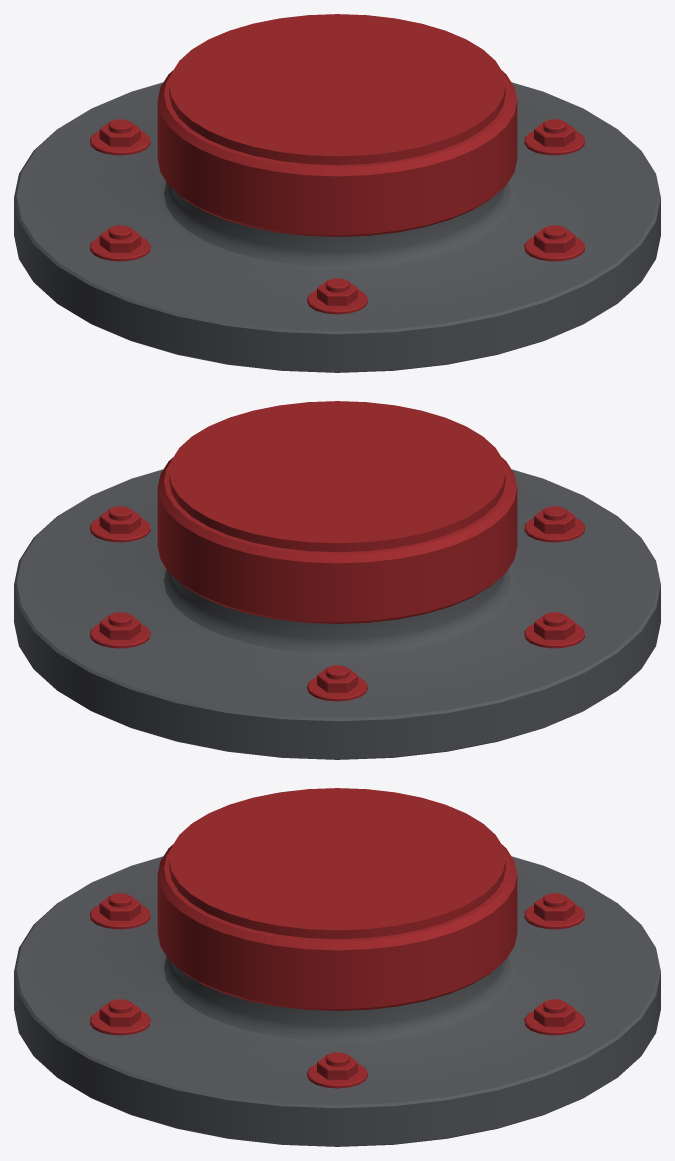
File: switch#001.fbx
3 renders of one model, top to bottom at view 1: azimuth 30°, elevation 25°; view 2: azimuth 150°, elevation 25°; view 3: azimuth 270°, elevation 25°, orthographic.
Visible parts, largest first — view 1: Medium.base.003; view 2: Medium.base.003; view 3: Medium.base.003.
Part boxes in pixels (box(x1,y1,x2,y2)): Medium.base.003: box(14, 14, 660, 372); Medium.base.003: box(14, 401, 660, 759); Medium.base.003: box(14, 788, 660, 1146).
Bounding box in the file's own units: 64.56 × 16.75 × 64.56.
